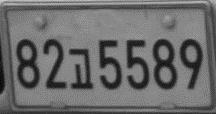2: (42, 38, 67, 89)
5: (98, 39, 122, 90), (125, 38, 149, 89)
8: (152, 38, 178, 89), (15, 38, 40, 89)
9: (179, 38, 203, 90)
고: (68, 48, 93, 90)
